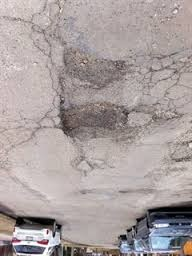pothole: (52, 51, 128, 88), (48, 101, 133, 134), (171, 123, 190, 173), (154, 48, 191, 72), (133, 104, 178, 120)
